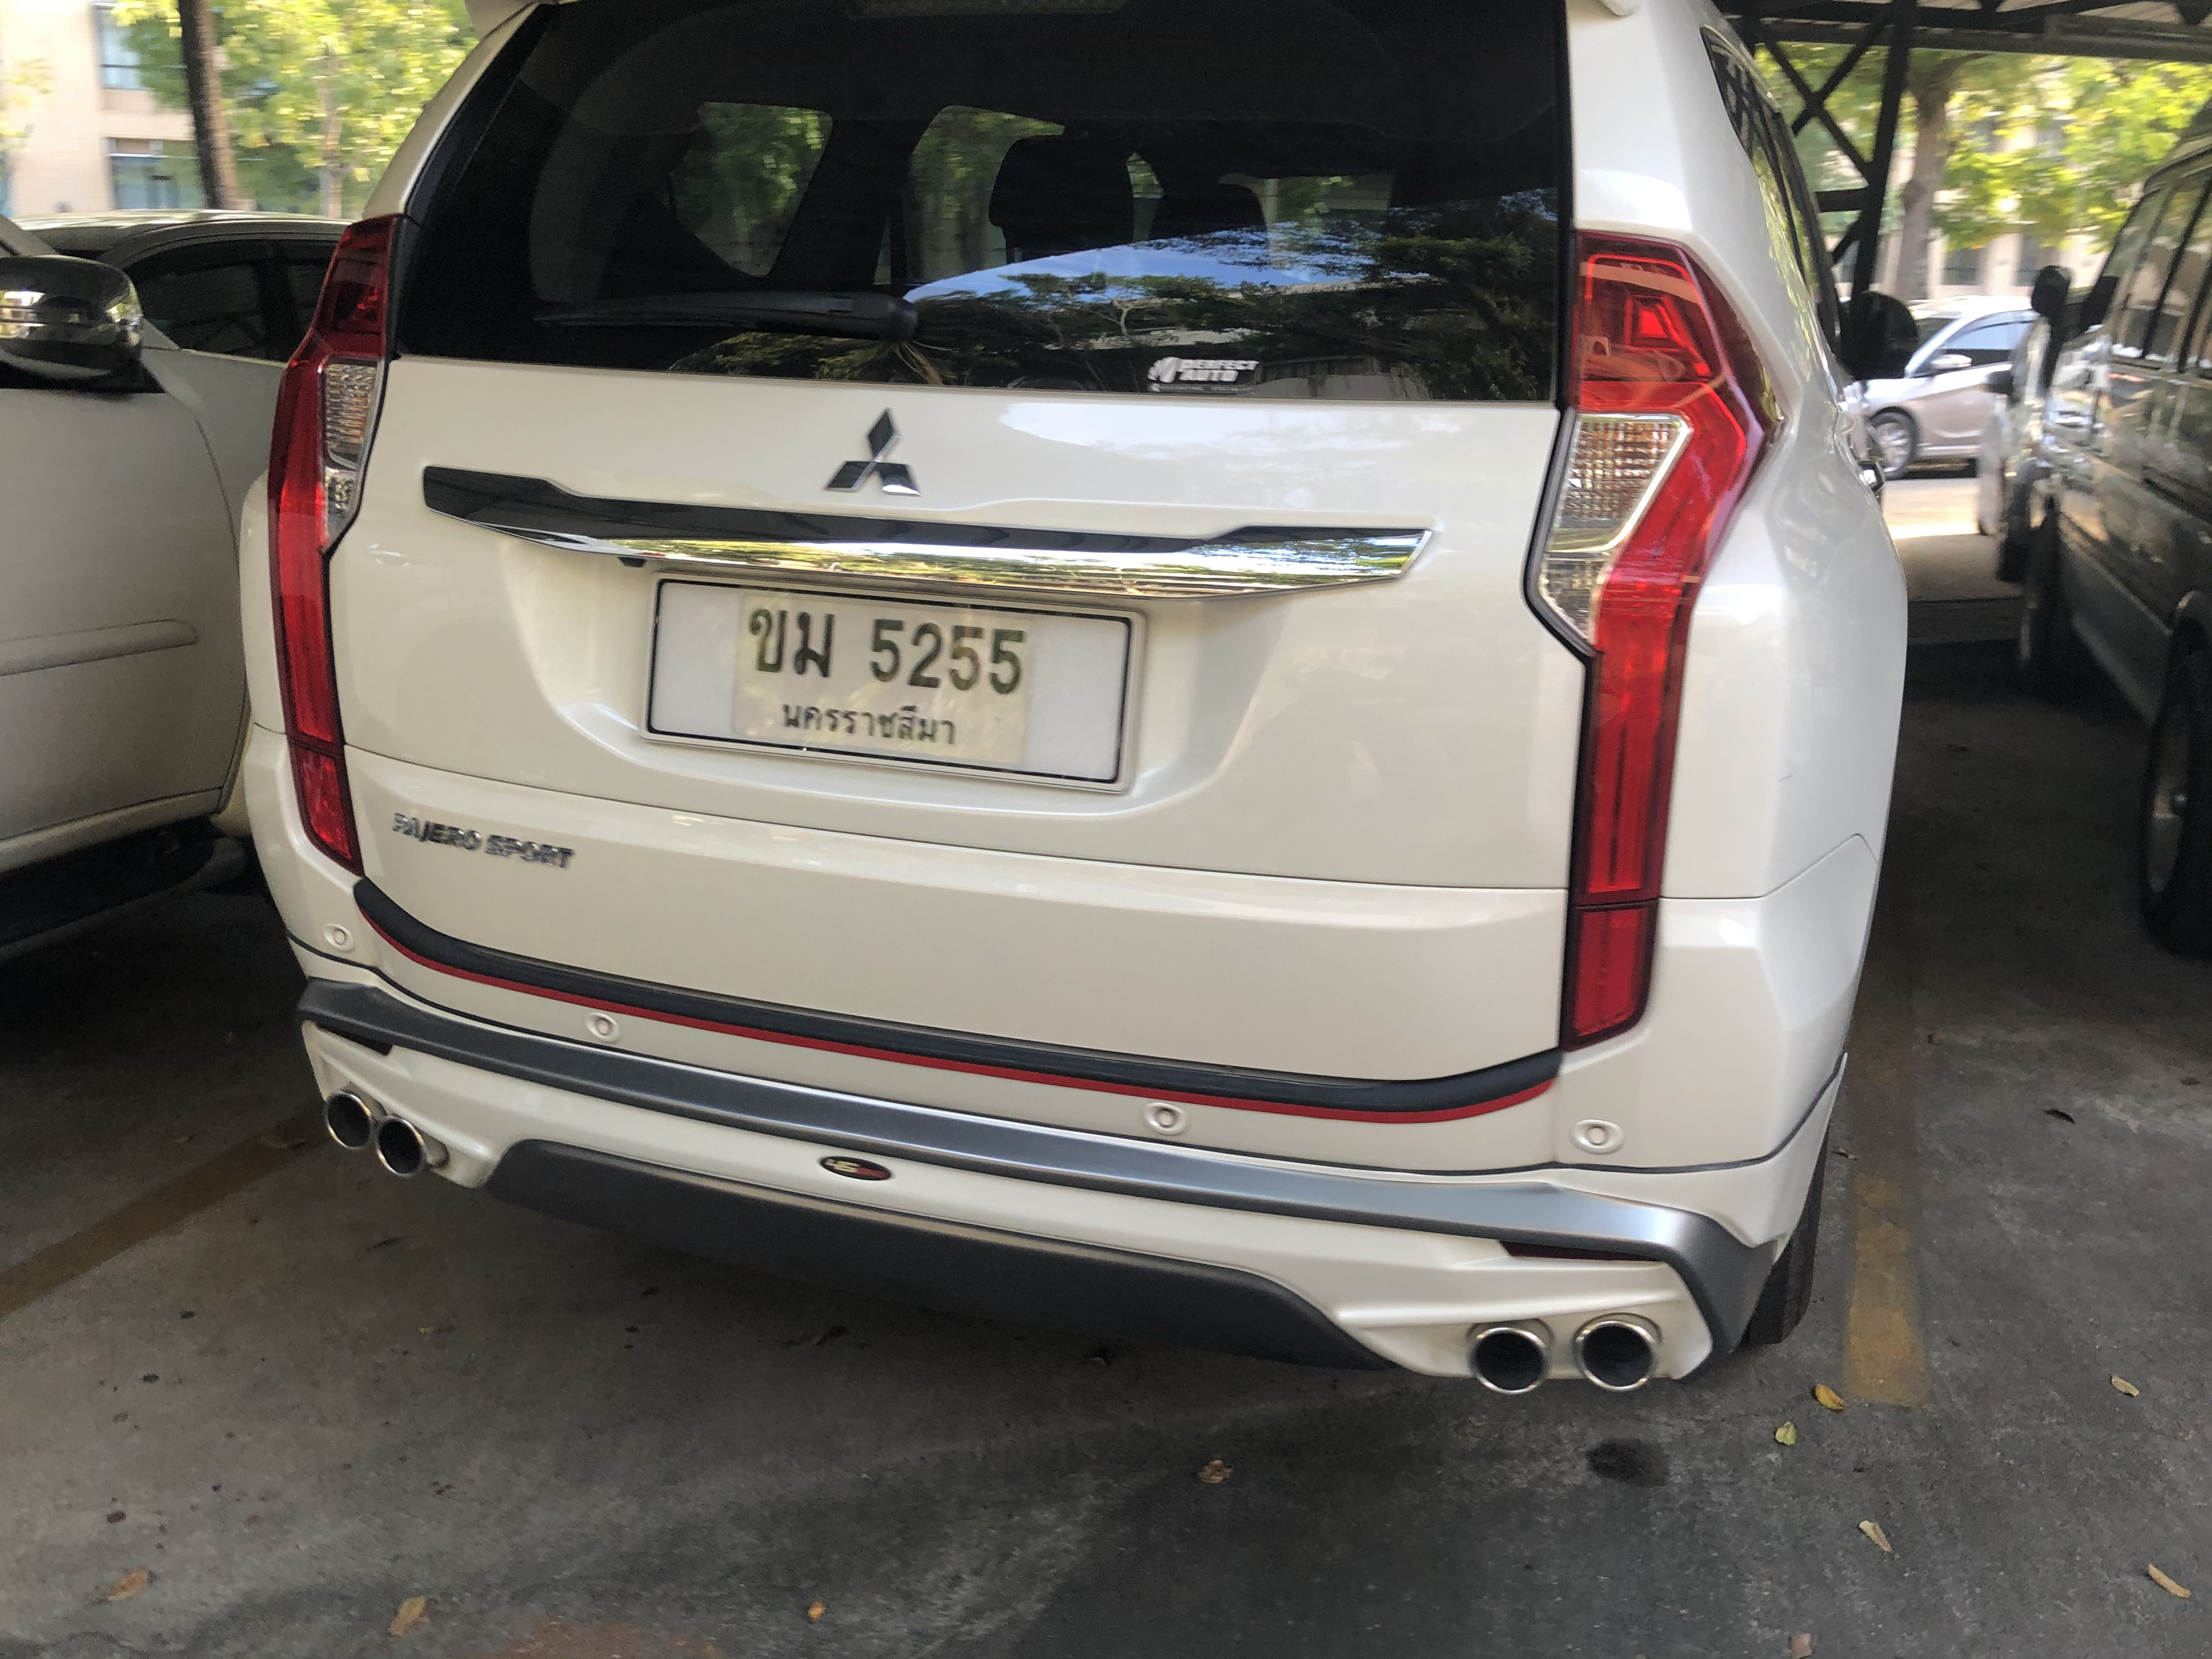in: (737, 592, 1035, 769)
out: (641, 561, 1143, 789)
